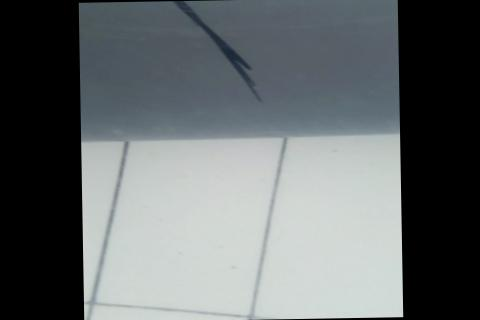keretakan: (140, 0, 265, 104)
